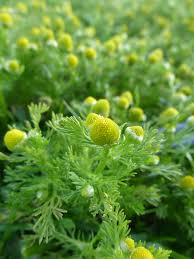pineple: (57, 110, 181, 230)
